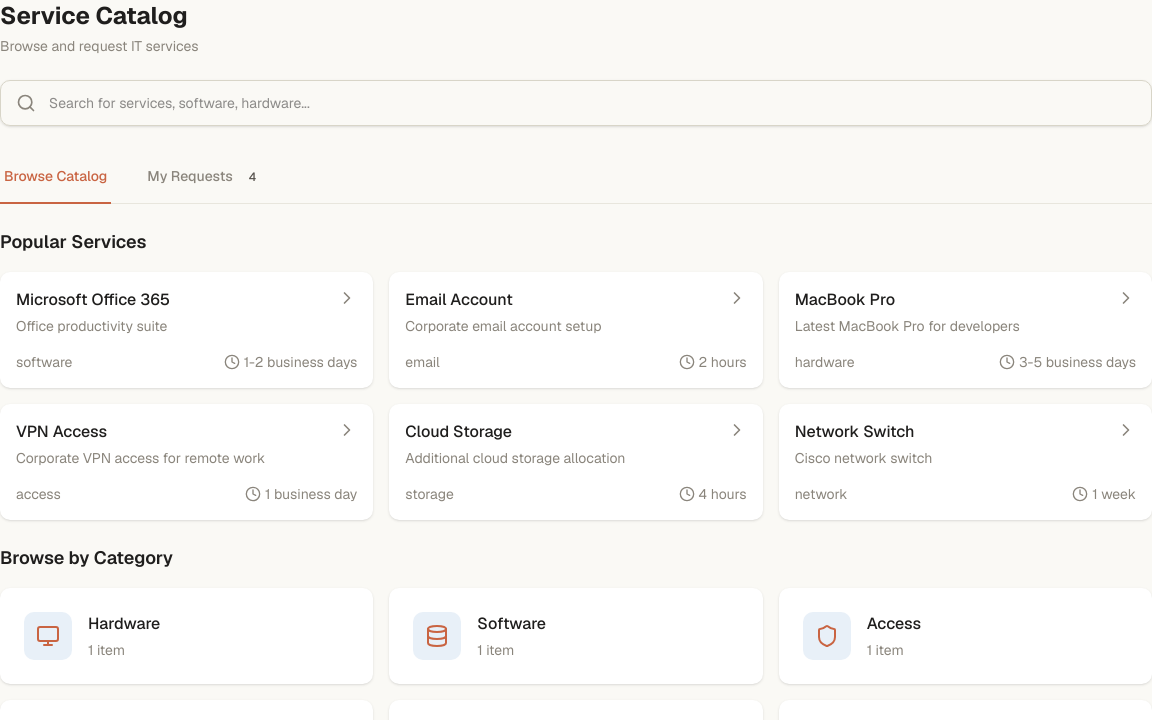
Test: CatalogPage › Search Functionality › shows no results message when search has no matches
Type "nonexistent item" into the field with placeholder "Search for services, software, hardware..." at (576, 103), box [0,80,1151,126]
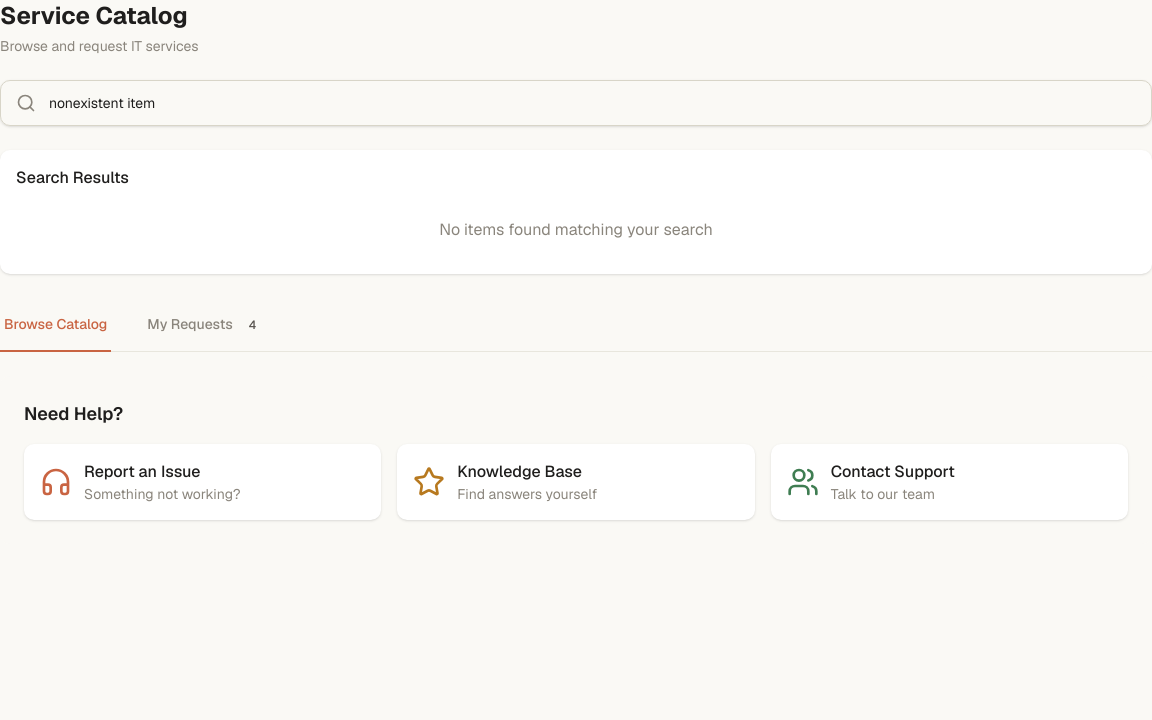
expect the text "No items found matching your search" is shown: met, box [439,219,713,240]
